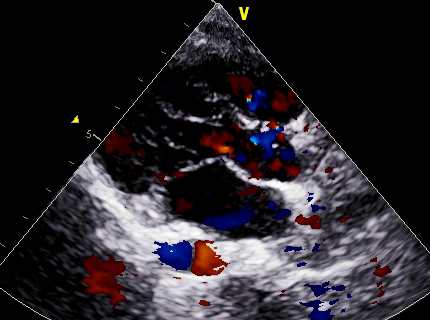MR: (195, 189, 286, 236)
